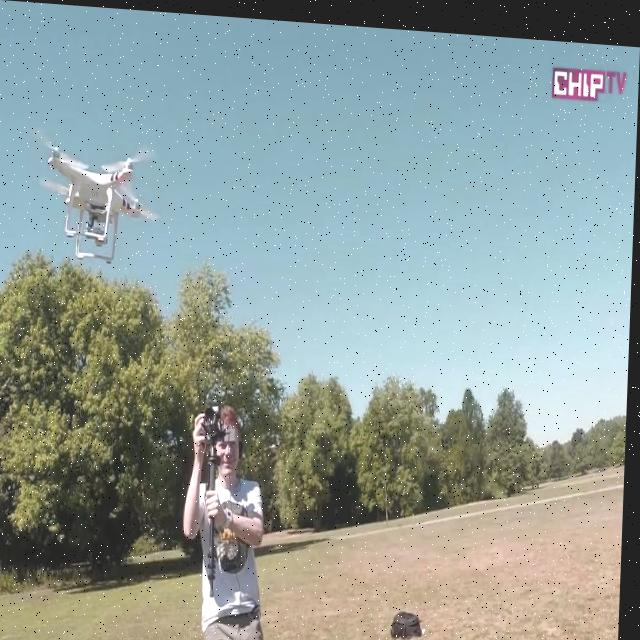drone: (29, 126, 162, 268)
